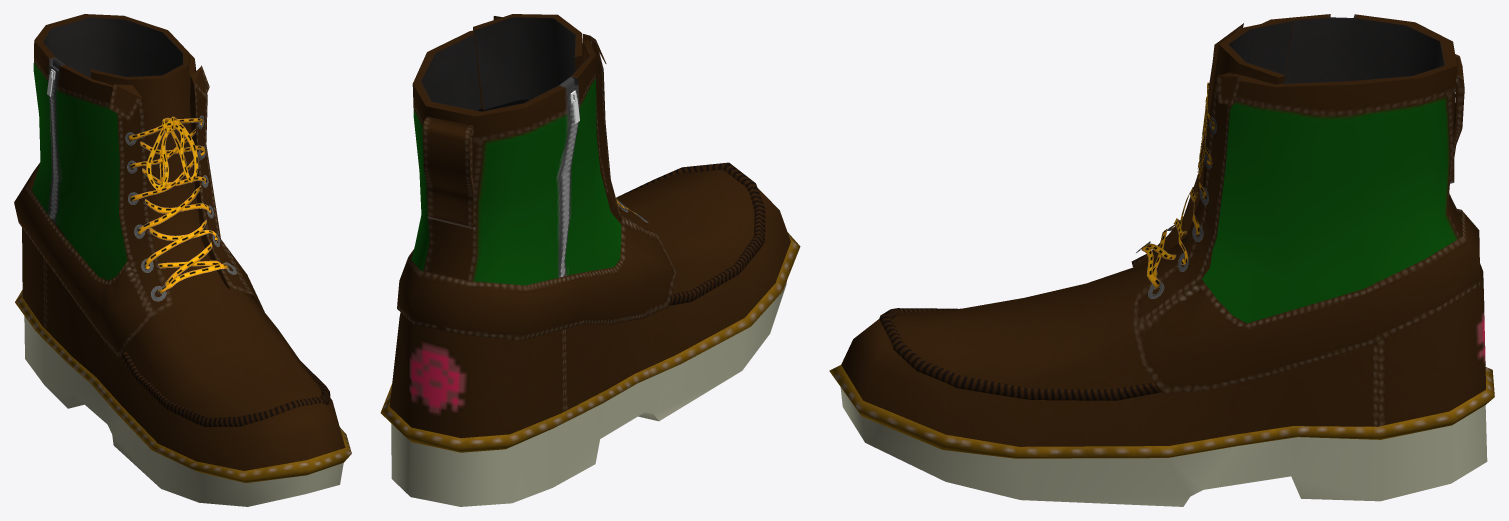
Rendered from shoeLeft.glb.
3 views of the same model, side by side, from view 1: azimuth 30°, elevation 25°; view 2: azimuth 150°, elevation 25°; view 3: azimuth 270°, elevation 25° (orthographic). The views are drawn at different scales.
Parts seen in each view (by area): view 1: TempleTuttle_ZipUp_Left; view 2: TempleTuttle_ZipUp_Left; view 3: TempleTuttle_ZipUp_Left.
Part boxes in pixels (x1,y1,x2,y2): TempleTuttle_ZipUp_Left: (14,14,351,506); TempleTuttle_ZipUp_Left: (380,14,800,506); TempleTuttle_ZipUp_Left: (829,14,1494,506).
Size of the model in its own units: 0.1363 by 0.2534 by 0.3659.
1 material, 1 textured.
